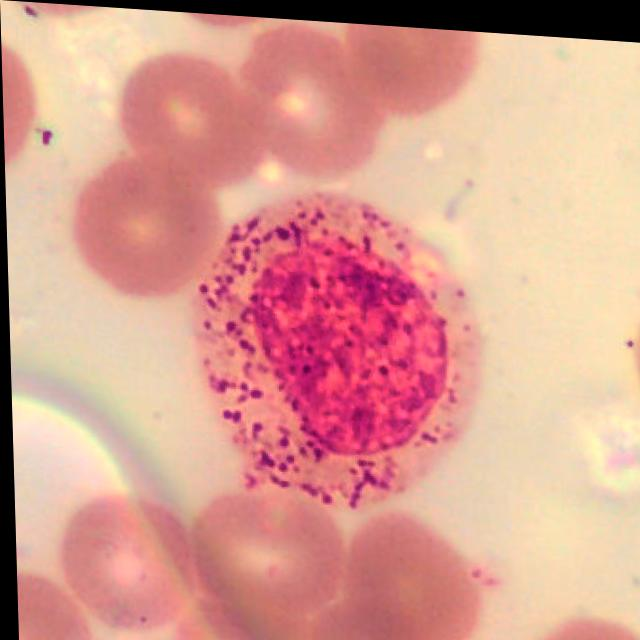Promielocito: (191, 190, 484, 507)
